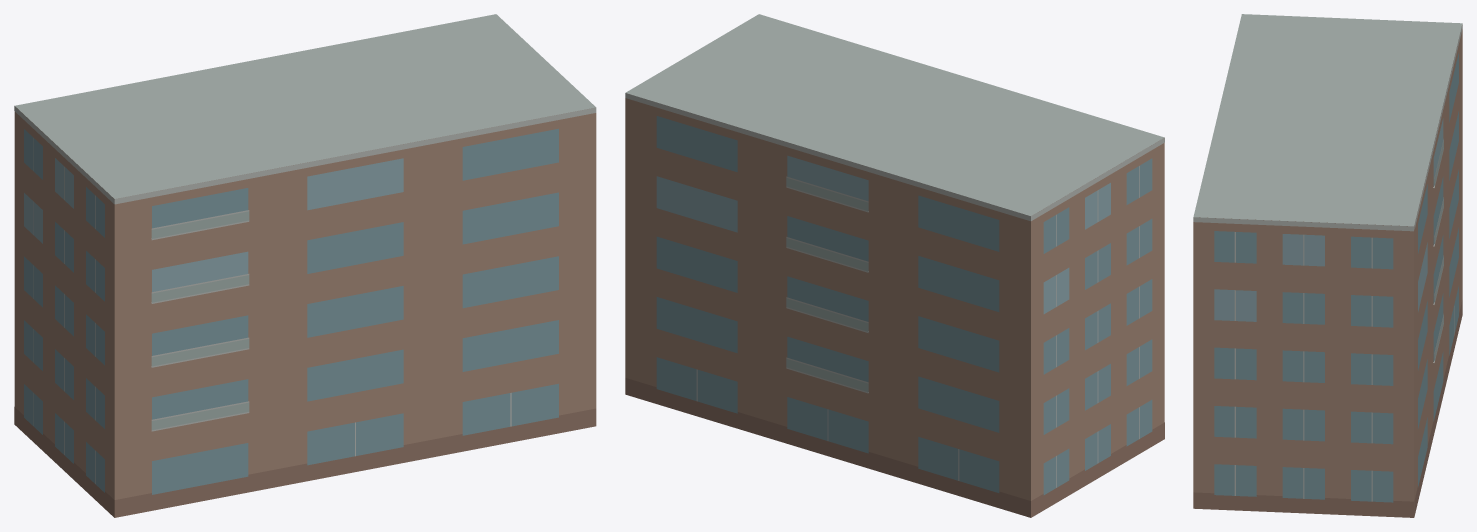
Rendered from survey-upis-32672204.glb.
3 views of the same model, side by side, from view 1: azimuth 30°, elevation 25°; view 2: azimuth 150°, elevation 25°; view 3: azimuth 270°, elevation 25° (orthographic). The views are drawn at different scales.
Parts seen in each view (by area): view 1: survey-upis-32672204.tmp; view 2: survey-upis-32672204.tmp; view 3: survey-upis-32672204.tmp.
Boxes of the visible parts, x1,y1,x2,y2 form: survey-upis-32672204.tmp: (14,14,596,517); survey-upis-32672204.tmp: (625,14,1164,517); survey-upis-32672204.tmp: (1193,14,1462,517).
Bounding box in the file's own units: 22.51 × 14.4 × 12.06.
